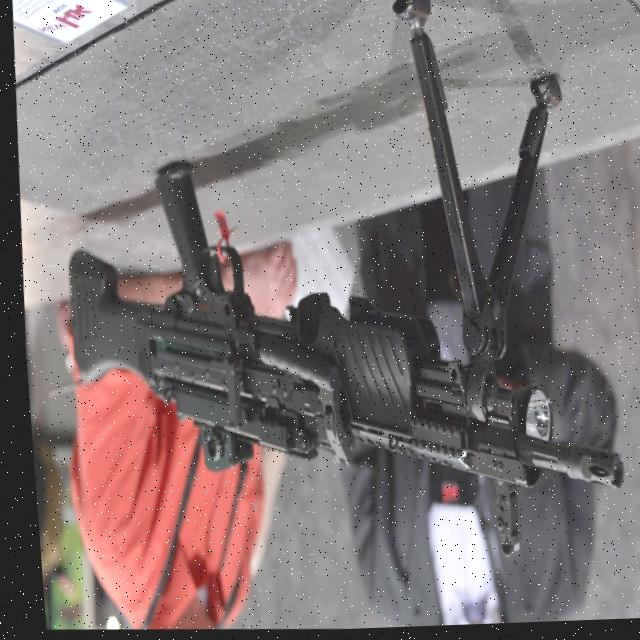firearm: (35, 0, 638, 581)
